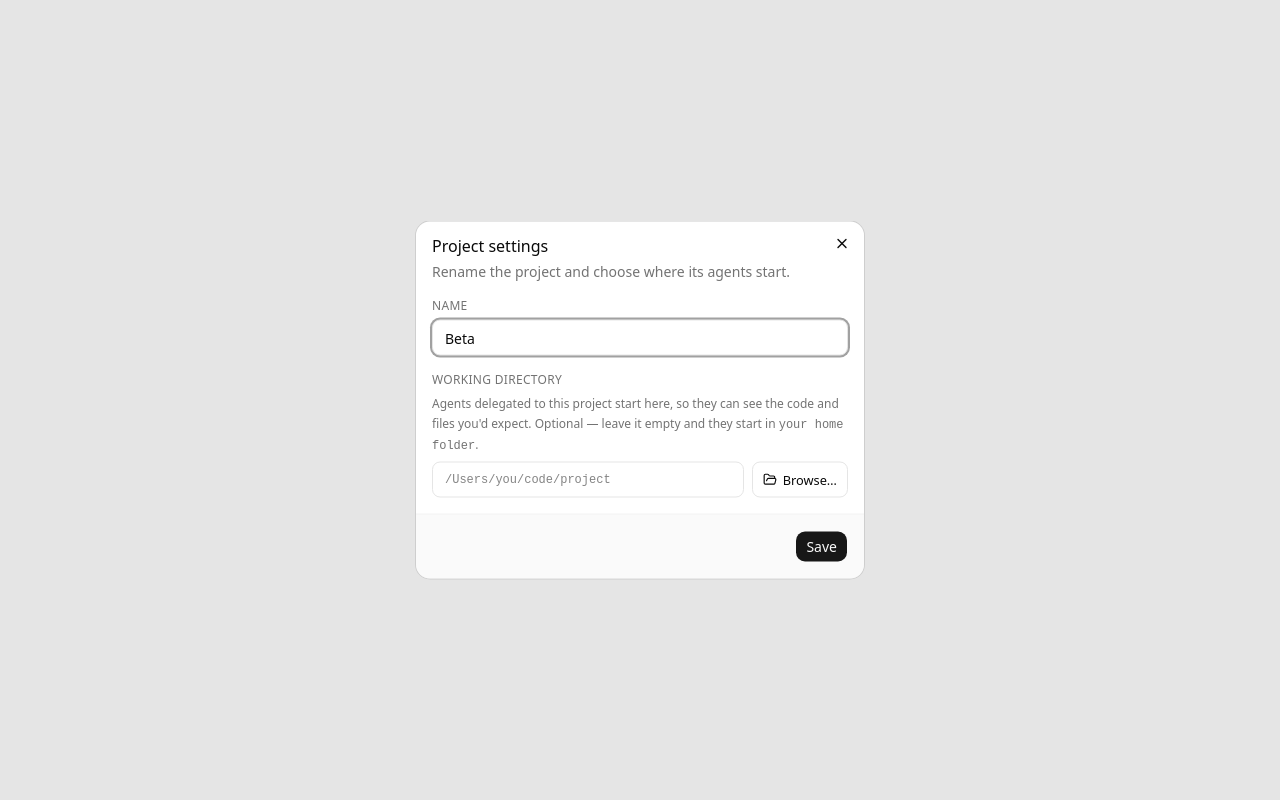
saving › reports a folder picker that fails instead of doing nothing
Expected: the field labelled "Name" holds "Beta", 432,320 -> 848,356
Click the button "Browse…". click: [800, 480]
box: 752,462 -> 848,498
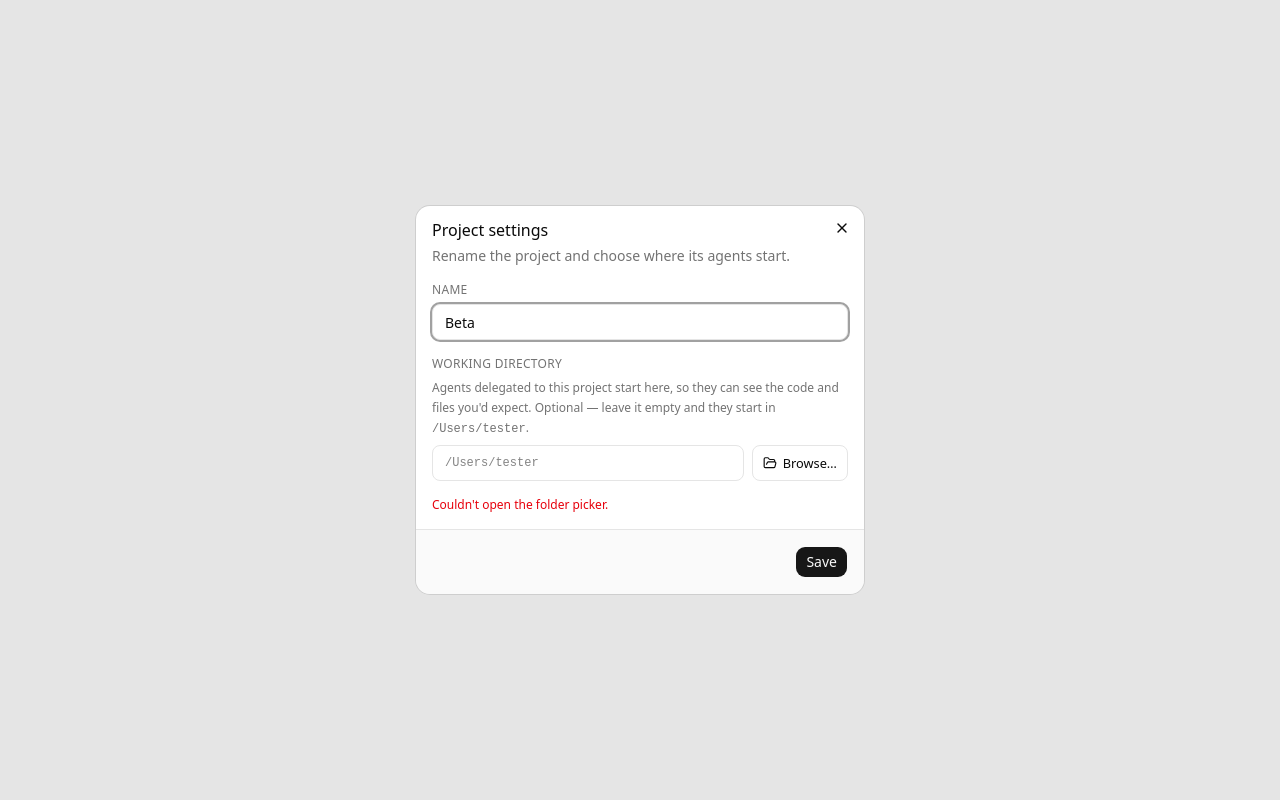
Expected: the text "Couldn't open the folder picker." is shown, 432,496 -> 608,513
